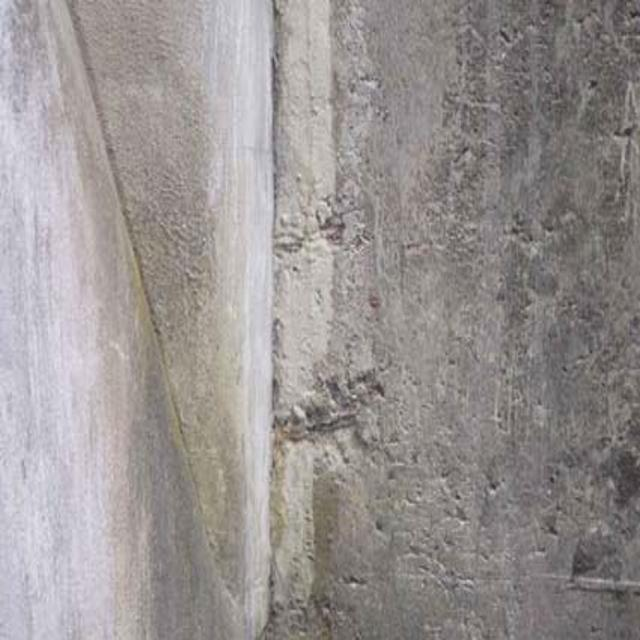spalling: (271, 191, 386, 463)
